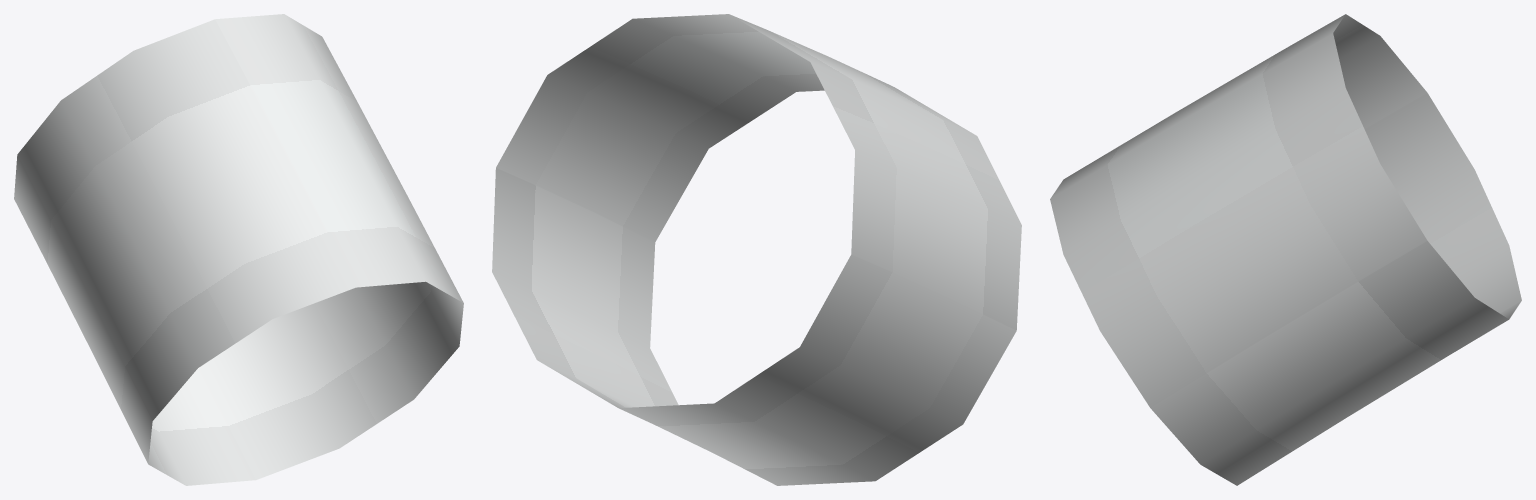
File: luminairearm_laupsweep10ft_c2.obj
3 views of the same model, side by side, from view 1: azimuth 30°, elevation 25°; view 2: azimuth 150°, elevation 25°; view 3: azimuth 270°, elevation 25° (orthographic). The views are drawn at different scales.
Parts seen in each view (by area): view 1: luminairearm_laupsweep10ft_c2; view 2: luminairearm_laupsweep10ft_c2; view 3: luminairearm_laupsweep10ft_c2.
Boxes of the visible parts, <box> form: luminairearm_laupsweep10ft_c2: <box>14,14,463,485</box>; luminairearm_laupsweep10ft_c2: <box>492,14,1021,485</box>; luminairearm_laupsweep10ft_c2: <box>1050,14,1521,485</box>.
Size of the model in its own units: 0.2448 by 0.3283 by 0.3243.
